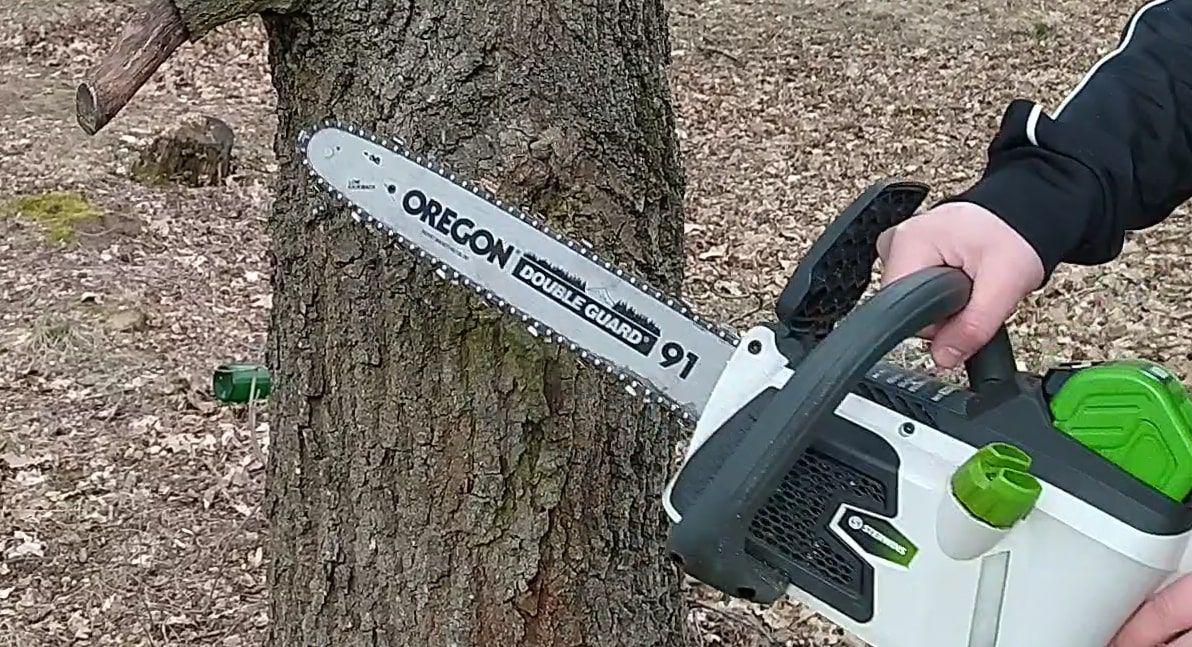chainsaw: (269, 105, 1192, 647)
